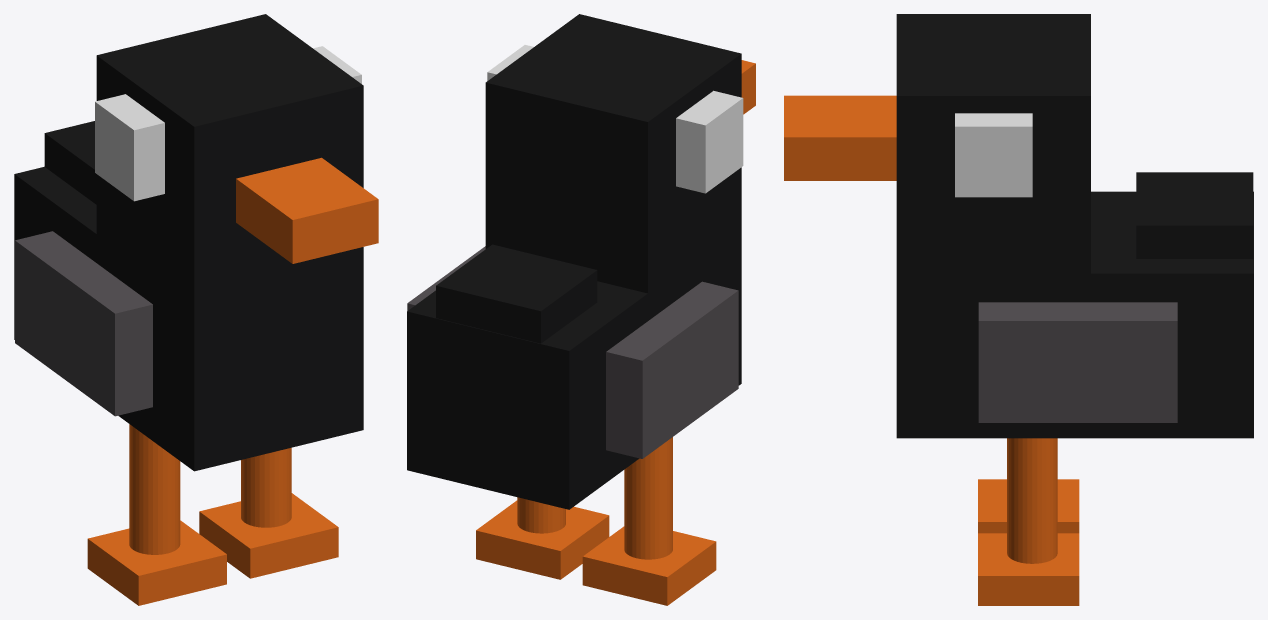
Rendered from Pato.fbx.
3 views of the same model, side by side, from view 1: azimuth 30°, elevation 25°; view 2: azimuth 150°, elevation 25°; view 3: azimuth 270°, elevation 25° (orthographic). The views are drawn at different scales.
Parts seen in each view (by area): view 1: Cuerpo, Ala-derecha, Pierna-derecha, Cube, Pierna-izquierda, Ojo-derecho; view 2: Cuerpo, Ala-derecha, Pierna-derecha, Pierna-izquierda, Ojo-derecho, Cube; view 3: Cuerpo, Ala-izquierda, Pierna-izquierda, Cube, Ojo-izquierdo, Pierna-derecha.
Part boxes in pixels (left/top/right/bottom): Cuerpo: left=14, top=14, right=363, bottom=471; Ala-derecha: left=15, top=231, right=152, bottom=416; Pierna-derecha: left=87, top=424, right=226, bottom=605; Cube: left=236, top=157, right=378, bottom=263; Pierna-izquierda: left=199, top=447, right=338, bottom=578; Ojo-derecho: left=95, top=94, right=164, bottom=201; Cuerpo: left=407, top=14, right=741, bottom=509; Ala-derecha: left=606, top=281, right=738, bottom=458; Pierna-derecha: left=582, top=437, right=716, bottom=605; Pierna-izquierda: left=476, top=497, right=609, bottom=579; Ojo-derecho: left=676, top=90, right=743, bottom=193; Cube: left=741, top=60, right=755, bottom=114; Cuerpo: left=896, top=14, right=1253, bottom=438; Ala-izquierda: left=978, top=302, right=1177, bottom=422; Pierna-izquierda: left=978, top=438, right=1079, bottom=605; Cube: left=784, top=95, right=896, bottom=180; Ojo-izquierdo: left=955, top=113, right=1032, bottom=197; Pierna-derecha: left=978, top=479, right=1079, bottom=533.
Size of the model in its own units: 290 by 571 by 484.
